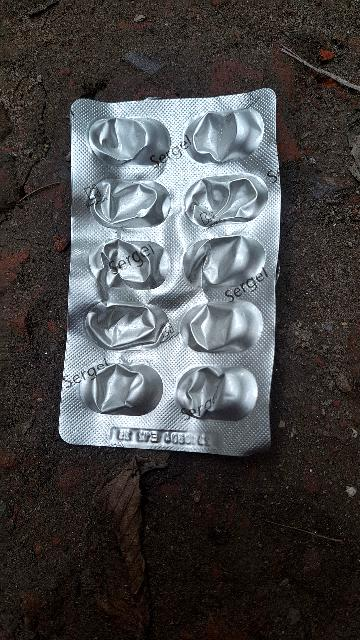medicine: (56, 80, 287, 458)
